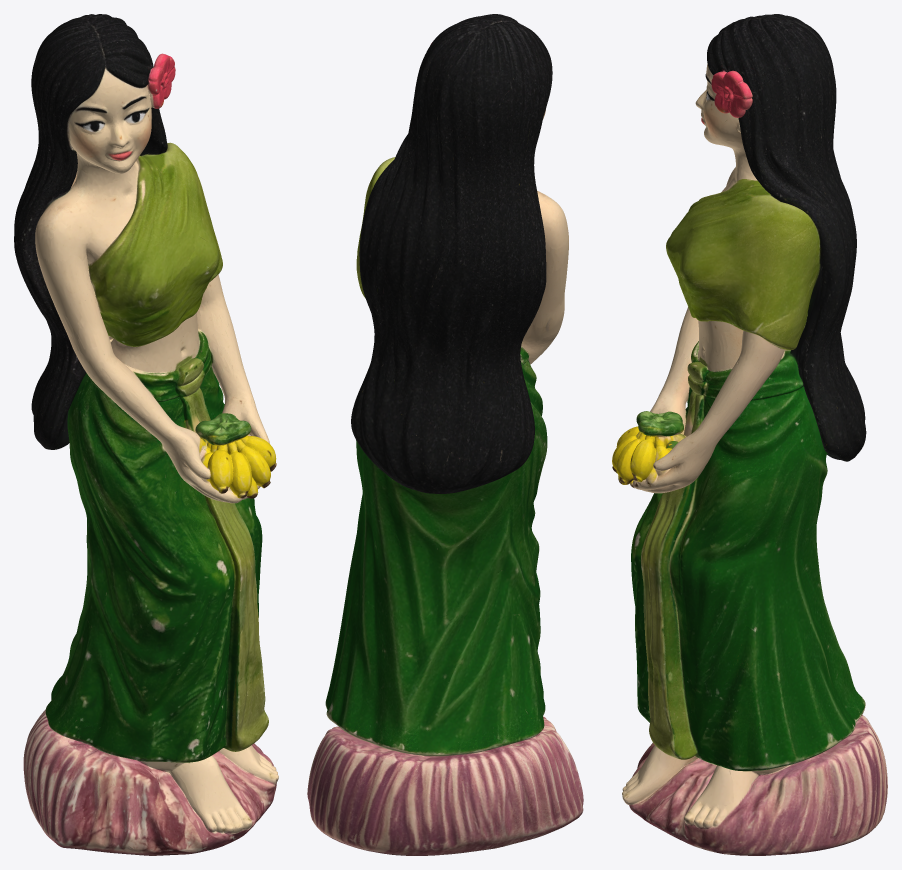
Rendered from original-tani.glb.
3 renders of one model, left to right at view 1: azimuth 30°, elevation 25°; view 2: azimuth 150°, elevation 25°; view 3: azimuth 270°, elevation 25°, orthographic. The views are drawn at different scales.
Parts seen in each view (by area): view 1: Mesh_0; view 2: Mesh_0; view 3: Mesh_0.
Part boxes in pixels (x1,y1,x2,y2): Mesh_0: (14,14,278,855); Mesh_0: (307,14,583,855); Mesh_0: (612,14,887,855).
Size of the model in its own units: 0.5718 by 1.9 by 0.6221.
1 material, 1 textured.
